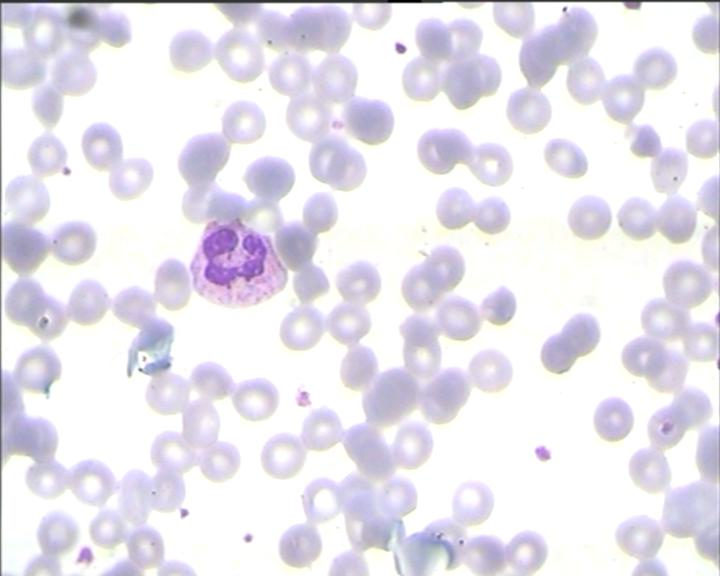neut: (191, 213, 290, 313)
